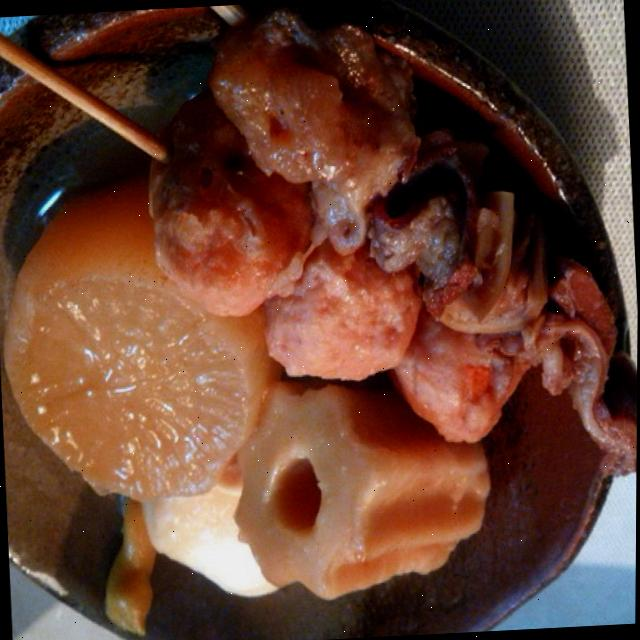汤锅炖物: (0, 32, 640, 623)
